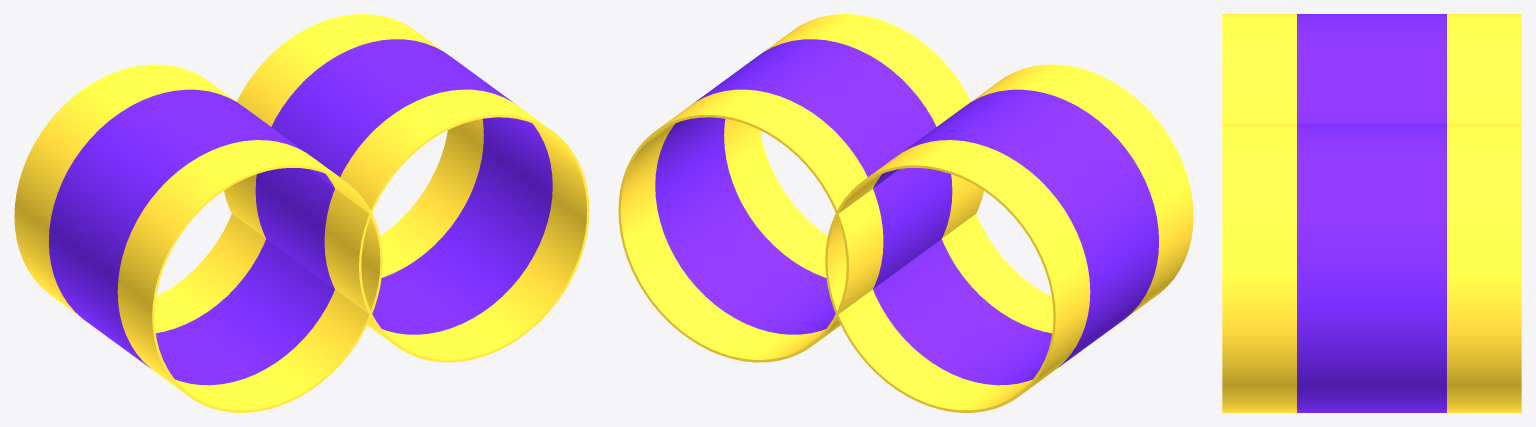
File: roller_crusher_wear.glb
3 views of the same model, side by side, from view 1: azimuth 30°, elevation 25°; view 2: azimuth 150°, elevation 25°; view 3: azimuth 270°, elevation 25° (orthographic). The views are drawn at different scales.
Parts seen in each view (by area): view 1: wz__front, wz__back; view 2: wz__back, wz__front; view 3: wz__back, wz__front.
Part boxes in pixels (bbox=[...]): wz__front: bbox=[83, 64, 589, 412]; wz__back: bbox=[14, 14, 518, 359]; wz__back: bbox=[618, 64, 1124, 412]; wz__front: bbox=[689, 14, 1193, 359]; wz__back: bbox=[1372, 14, 1521, 412]; wz__front: bbox=[1222, 14, 1371, 412].
Size of the model in its own units: 1.1 by 0.58 by 0.6.
